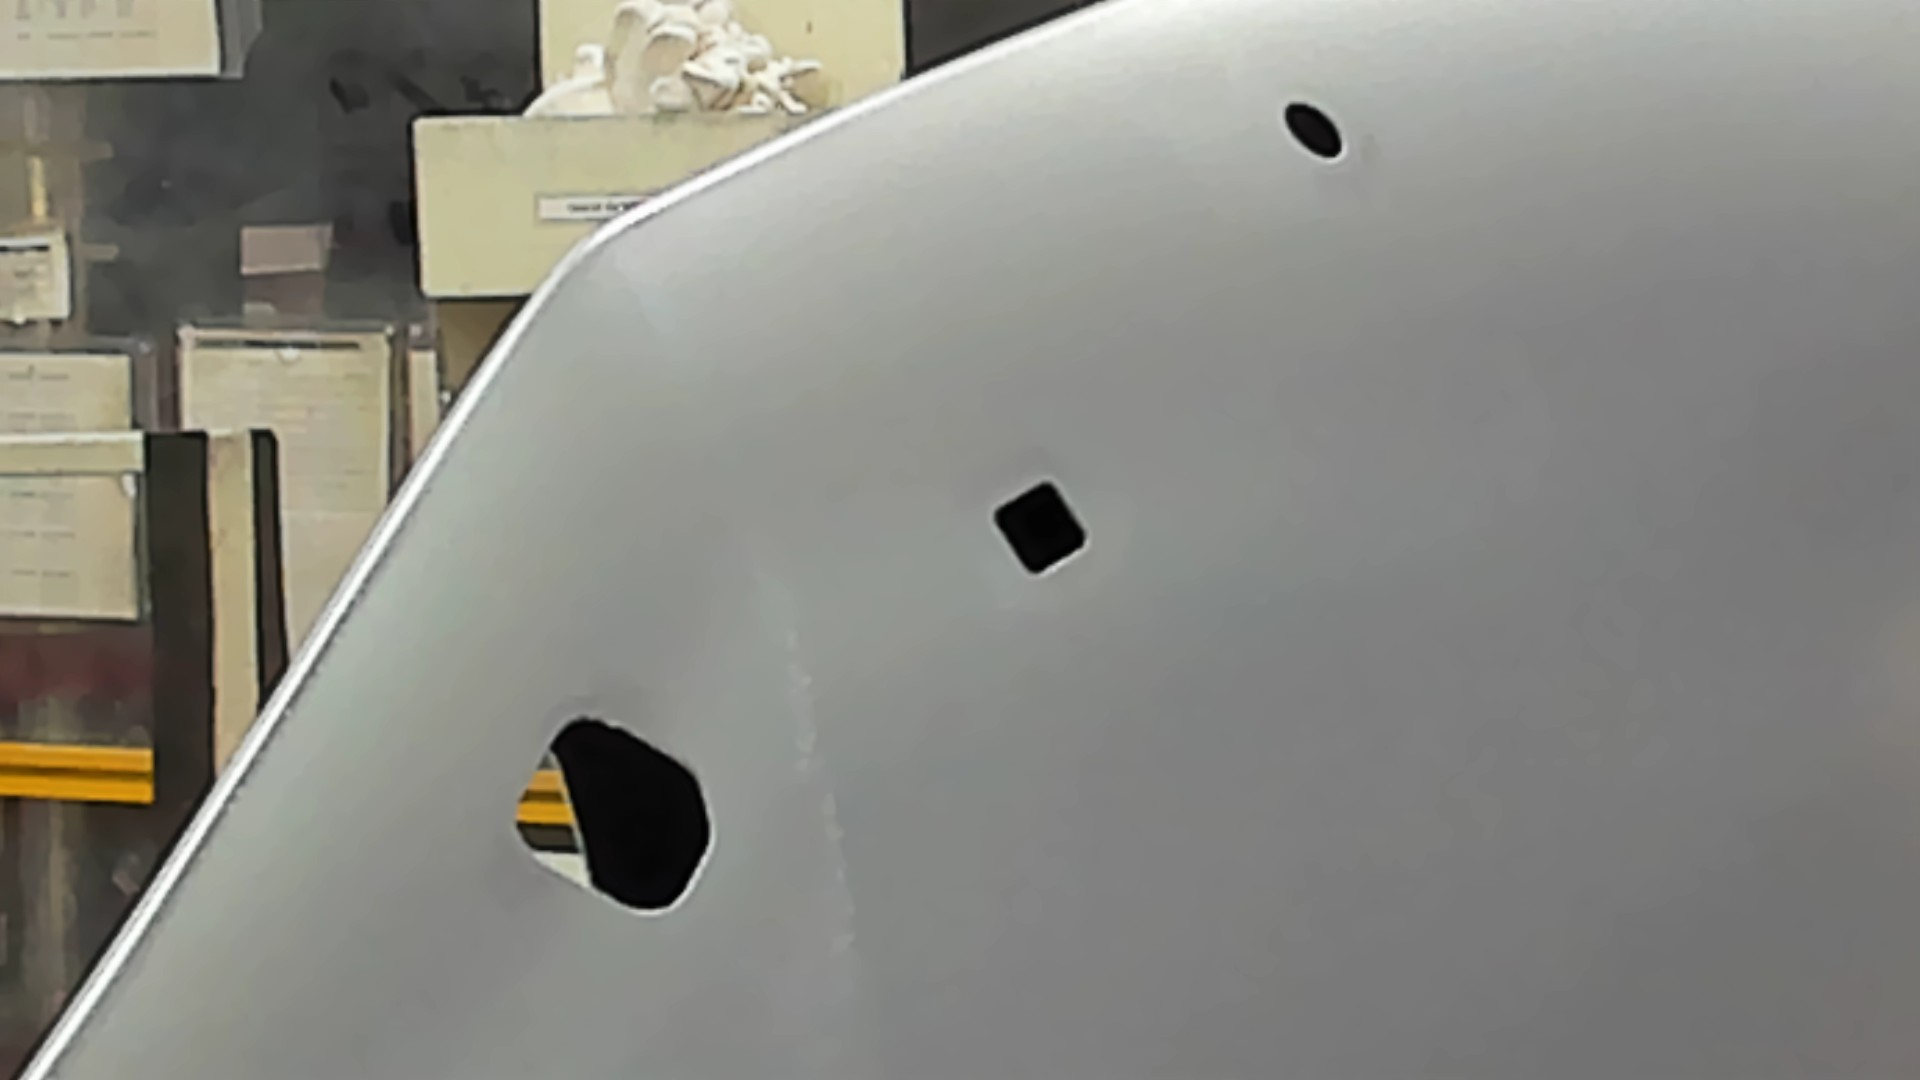capo: (1096, 165, 1920, 1080)
chico: (1280, 98, 1345, 160)
grande: (505, 708, 715, 918)
mediano: (988, 477, 1093, 583)
